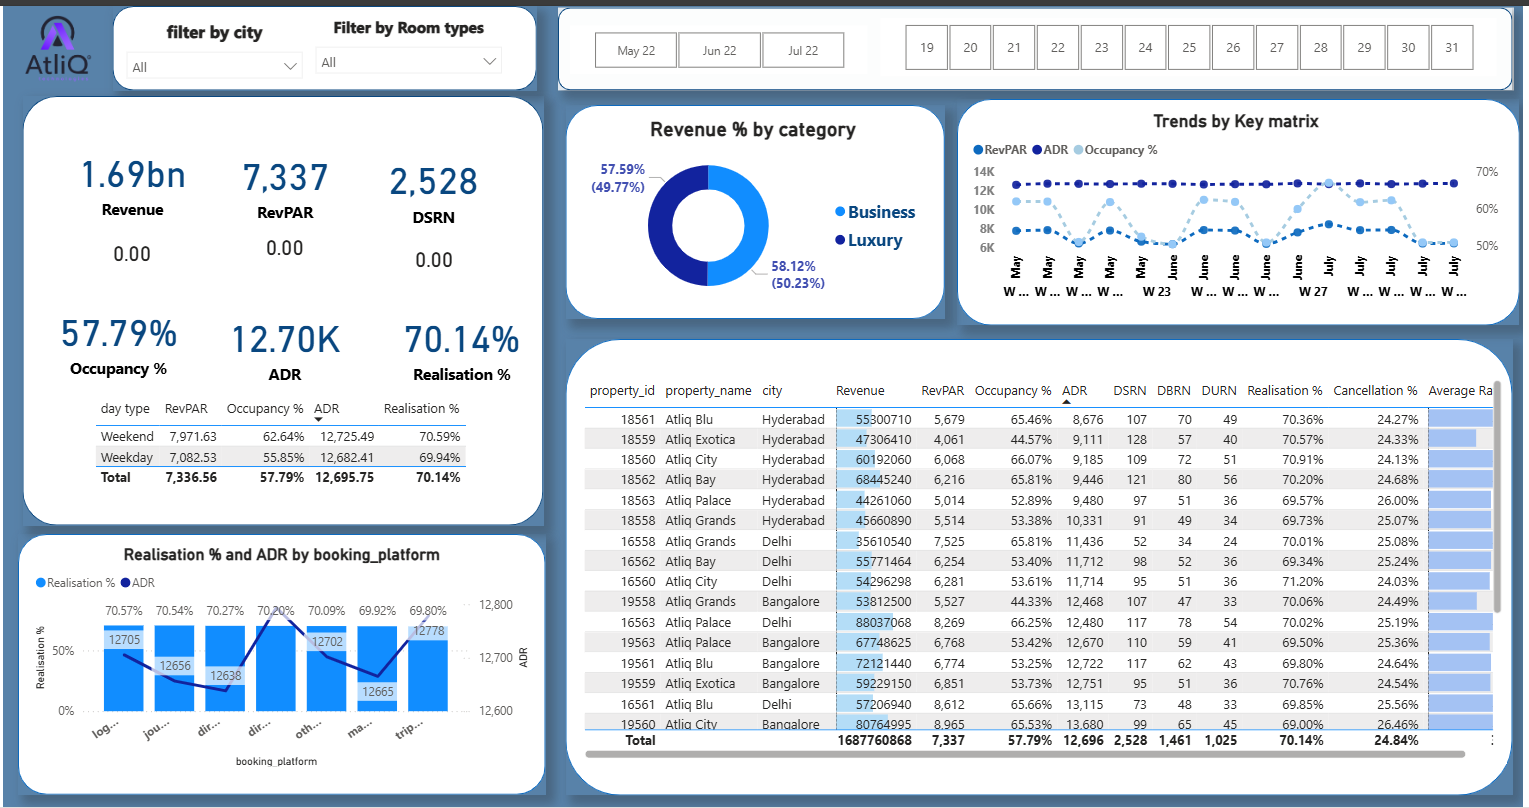

The dashboard page shown, as its layout file describes it:
{"tool":"powerbi","page":{"name":"Page 1","canvas":[1567,826],"ordinal":0},"visuals":[{"type":"group","id":"g1","title":"Group 1","box":[572.8,1.9,984.3,85.3],"z":0},{"type":"shape","box":[572.8,1.9,984.3,85.3],"z":0,"group":"g1"},{"type":"shape","box":[20.4,92.7,537,443],"z":0,"group":"g3"},{"type":"shape","box":[580.6,342.9,976.5,470.8],"z":0,"group":"g7"},{"type":"shape","box":[984.3,96.4,580.2,233.6],"z":500,"group":"g6"},{"type":"group","id":"g2","title":"Group 2","box":[113.1,0,437.5,87.1],"z":1000},{"type":"shape","box":[113.1,0,437.5,87.1],"z":1000,"group":"g2"},{"type":"lineChart","title":"Trends by Key matrix","fields":{"Category":["dim_date.week no","dim_date.mmm yy.Variation.Date Hierarchy.Month"],"Y":["key_measure.RevPAR","key_measure.ADR"],"Y2":["key_measure.Occupancy %"]},"box":[994.8,108.5,554.1,208.1],"z":1000,"group":"g6"},{"type":"card","fields":{"Values":["key_measure.Occupancy %"]},"box":[36.5,289,165.9,107.9],"z":1000,"group":"g3"},{"type":"tableEx","fields":{"Values":["dim_hotels.property_id","dim_hotels.property_name","dim_hotels.city","key_measure.Revenue","key_measure.RevPAR","key_measure.Occupancy %","key_measure.ADR","key_measure.DSRN","key_measure.DBRN","key_measure.DURN","key_measure.Realisation %","key_measure.Cancellation %"]},"box":[594.3,380.1,956.5,400.4],"z":1000,"group":"g7"},{"type":"group","id":"g3","title":"Group 3","box":[20.4,92.7,537.6,443],"z":2000},{"type":"card","fields":{"Values":["key_measure.Realisation %"]},"box":[389.7,295.4,165.9,107.9],"z":2000,"group":"g3"},{"type":"slicer","fields":{"Values":["dim_date.week number"]},"box":[904.8,13.1,635,60.2],"z":3000,"group":"g1"},{"type":"card","fields":{"Values":["key_measure.ADR"]},"box":[207.7,295.4,165.9,107.9],"z":3000,"group":"g3"},{"type":"group","id":"g4","title":"Group 4","box":[14.8,545,543.1,268.8],"z":3000},{"type":"slicer","title":"filter by city","fields":{"Values":["dim_hotels.city"]},"box":[117.5,14.4,201.1,61.2],"z":4000,"group":"g2"},{"type":"group","id":"g5","title":"Group 5","box":[580.2,102,391.1,220.6],"z":4000},{"type":"card","title":".","fields":{"Values":["key_measure.Revenue WoW change %"]},"box":[72.1,198.8,123.1,91.8],"z":4000,"group":"g3"},{"type":"slicer","title":"Filter by Room types","fields":{"Values":["dim_rooms.room_class"]},"box":[313.3,10.7,211.7,63],"z":5000,"group":"g2"},{"type":"group","id":"g6","title":"Group 6","box":[984.3,96.4,580.2,233.6],"z":5000},{"type":"card","title":".","fields":{"Values":["key_measure.Revenue WoW change %"]},"box":[236.3,192.4,107,93.4],"z":5000,"group":"g3"},{"type":"card","fields":{"Values":["key_measure.Revenue"]},"box":[50.3,125.8,167.3,108.6],"z":6000,"group":"g3"},{"type":"group","id":"g7","title":"Group 7","box":[580.6,342.9,976.5,470.8],"z":6000},{"type":"image","box":[0,3.7,113.1,83.4],"z":6001},{"type":"shape","box":[580.2,102,391.1,220.6],"z":6500,"group":"g5"},{"type":"donutChart","title":"Revenue % by category","fields":{"Category":["dim_hotels.category"],"Y":["key_measure.Occupancy %"]},"box":[592.7,113.8,362.2,200],"z":7000,"group":"g5"},{"type":"card","title":".","fields":{"Values":["key_measure.Revenue WoW change %"]},"box":[389.7,205.2,108.8,91.8],"z":7000,"group":"g3"},{"type":"card","fields":{"Values":["key_measure.DSRN"]},"box":[361.4,133.2,166.5,108.6],"z":8000,"group":"g3"},{"type":"card","fields":{"Values":["key_measure.RevPAR"]},"box":[208.1,128.2,166.5,108.6],"z":9000,"group":"g3"},{"type":"shape","box":[14.8,545,544,268.8],"z":9500,"group":"g4"},{"type":"tableEx","fields":{"Values":["dim_date.day type","key_measure.RevPAR","key_measure.Occupancy %","key_measure.ADR","key_measure.Realisation %"]},"box":[89.5,399.2,403.6,119.3],"z":10000,"group":"g3"},{"type":"lineStackedColumnComboChart","fields":{"Category":["fact_booking.booking_platform"],"Y":["key_measure.Realisation %"],"Y2":["key_measure.ADR"]},"box":[27.7,556.1,519.4,233.6],"z":10000,"group":"g4"},{"type":"slicer","fields":{"Values":["dim_date.mmm yy"]},"box":[585.7,20.7,306.6,50.1],"z":19000,"group":"g1"}]}

Visuals, with their boxes in screenshot pixels (x1, y1, x2, y2), scaled from the page's 1567x826 canvas onto the 1529x808 screenshot:
"Group 1" group: [559,2,1519,85]
shape: [559,2,1519,85]
shape: [20,91,544,524]
shape: [567,335,1519,796]
shape: [960,94,1527,323]
"Group 2" group: [110,0,537,85]
shape: [110,0,537,85]
"Trends by Key matrix" lineChart: [971,106,1511,310]
card - key_measure.Occupancy %: [36,283,197,388]
tableEx - dim_hotels.property_id x dim_hotels.property_name: [580,372,1513,763]
"Group 3" group: [20,91,544,524]
card - key_measure.Realisation %: [380,289,542,395]
slicer - dim_date.week number: [883,13,1502,72]
card - key_measure.ADR: [203,289,365,395]
"Group 4" group: [14,533,544,796]
"filter by city" slicer: [115,14,311,74]
"Group 5" group: [566,100,948,316]
"." card: [70,194,190,284]
"Filter by Room types" slicer: [306,10,512,72]
"Group 6" group: [960,94,1527,323]
"." card: [231,188,335,280]
card - key_measure.Revenue: [49,123,212,229]
"Group 7" group: [567,335,1519,796]
image: [0,4,110,85]
shape: [566,100,948,316]
"Revenue % by category" donutChart: [578,111,932,307]
"." card: [380,201,486,291]
card - key_measure.DSRN: [353,130,515,237]
card - key_measure.RevPAR: [203,125,366,232]
shape: [14,533,545,796]
tableEx - dim_date.day type x key_measure.RevPAR: [87,391,481,507]
lineStackedColumnComboChart - fact_booking.booking_platform x key_measure.Realisation %: [27,544,534,772]
slicer - dim_date.mmm yy: [571,20,871,69]
